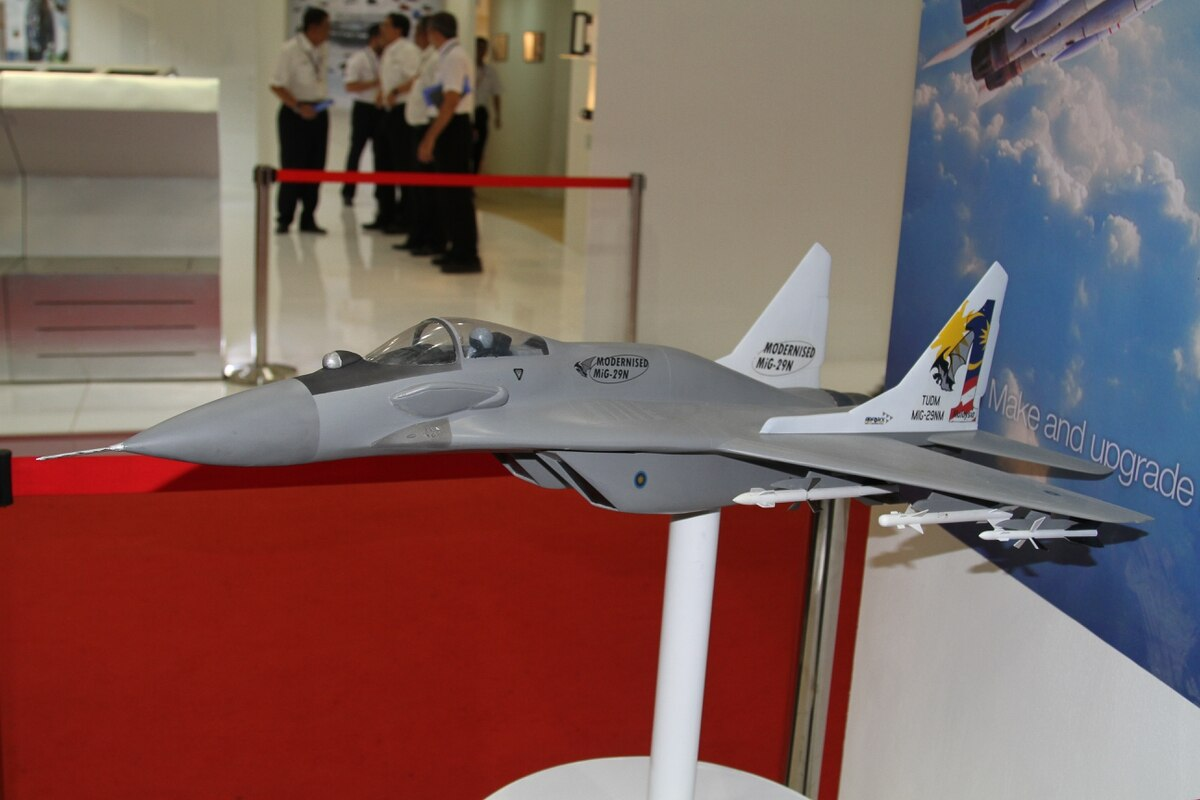Mig-29: (45, 195, 1157, 626)
